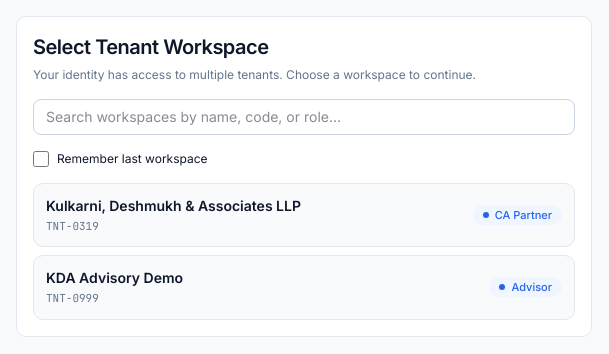
Test: US-01.1 Delegated OIDC Sign-In & Multi-Tenant Workspace Selection › routes multi-tenant admin to /workspaces and filters selectable tenants
Later steps or results of the test are not shown.
Type "Kulkarni" into the search field with placeholder "Search workspaces by name, code, or role...". click: [304, 116]
box: [33,98,575,134]
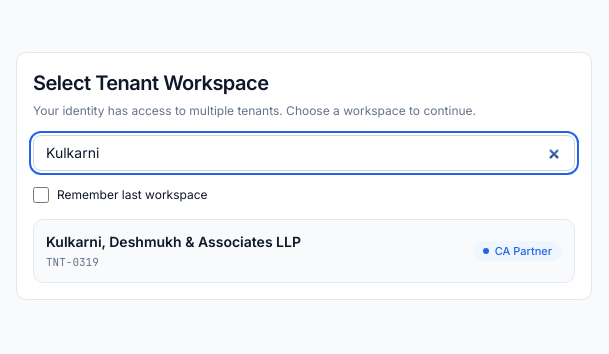
Expected: the text "Kulkarni, Deshmukh & Associates LLP" is shown, [46,232,301,252]
Expected: the button "KDA Advisory Demo" is gone
